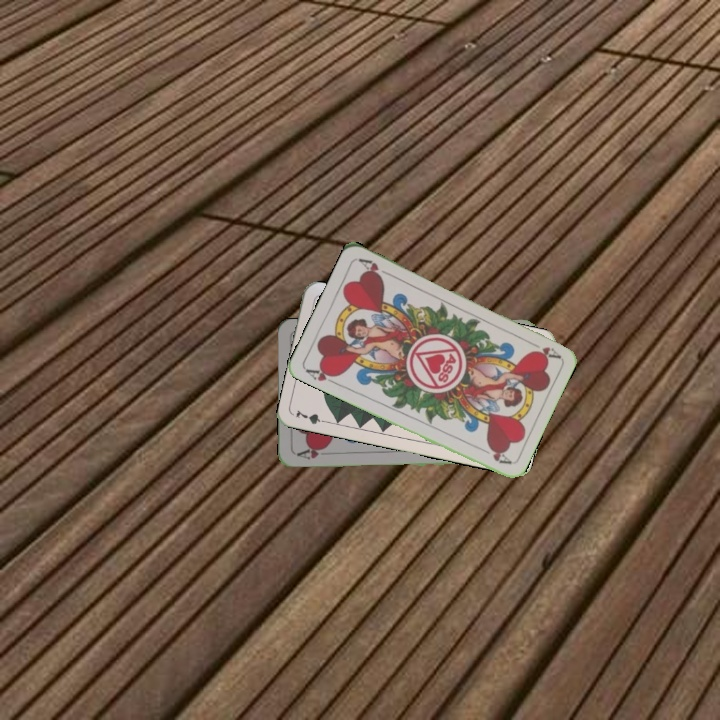G7: (291, 406, 332, 427)
HA: (301, 363, 341, 387), (524, 337, 562, 361), (292, 442, 331, 462)
